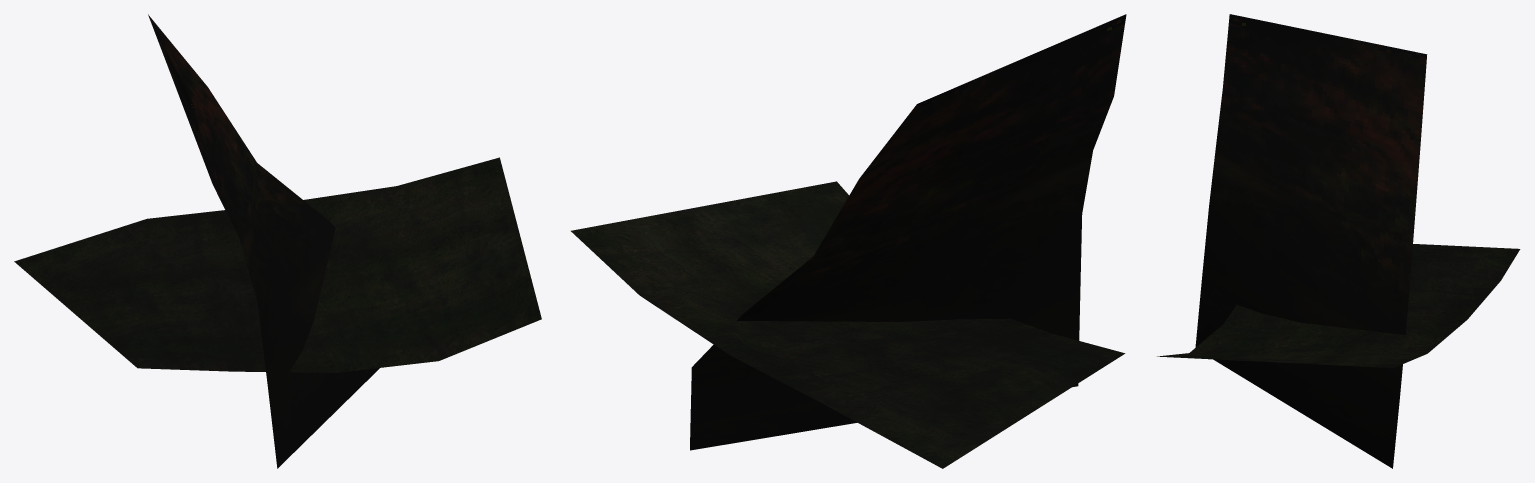
File: cell_3_-21.gltf
3 views of the same model, side by side, from view 1: azimuth 30°, elevation 25°; view 2: azimuth 150°, elevation 25°; view 3: azimuth 270°, elevation 25° (orthographic). The views are drawn at different scales.
Parts seen in each view (by area): view 1: cell_3_-21; view 2: cell_3_-21; view 3: cell_3_-21.
Part boxes in pixels (x1,y1,x2,y2): cell_3_-21: [14, 14, 541, 468]; cell_3_-21: [571, 14, 1126, 468]; cell_3_-21: [1157, 14, 1520, 468].
Bounding box in the file's own units: 210 × 184 × 182.
2 materials, 2 textured.
